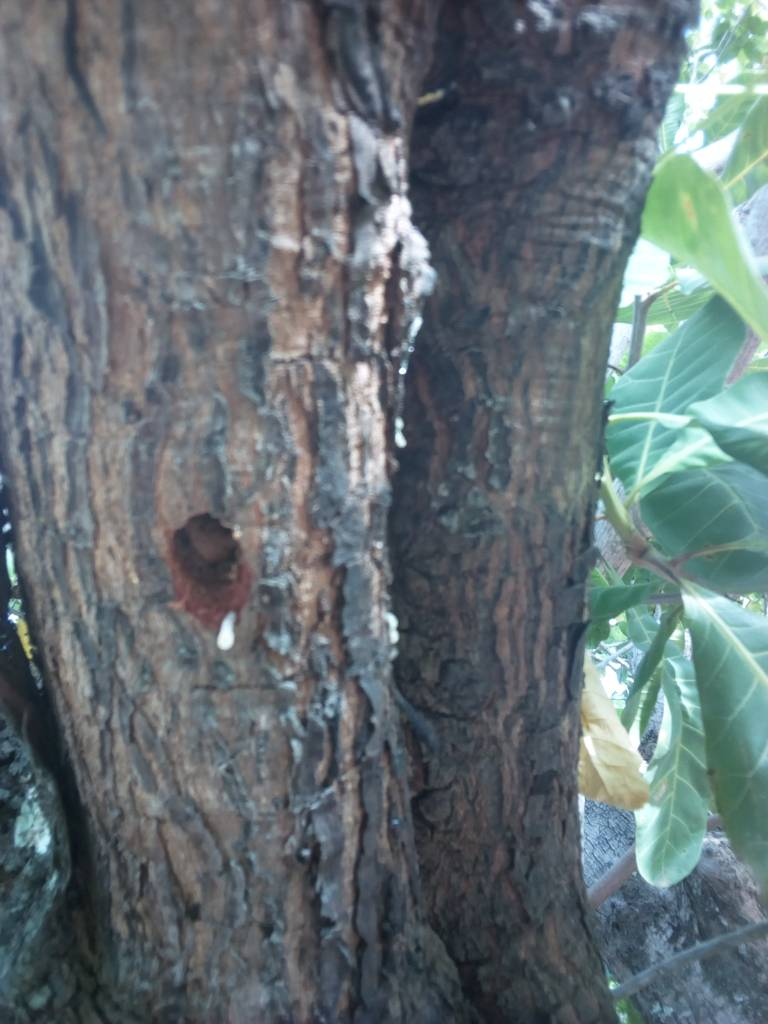Apate terebrans: (139, 487, 306, 653)
